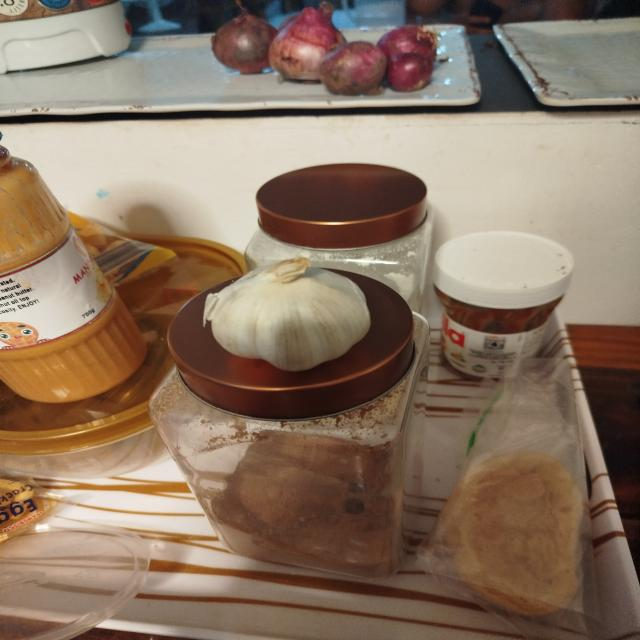garlic: (202, 256, 371, 372), (268, 1, 346, 82), (211, 0, 278, 74)
